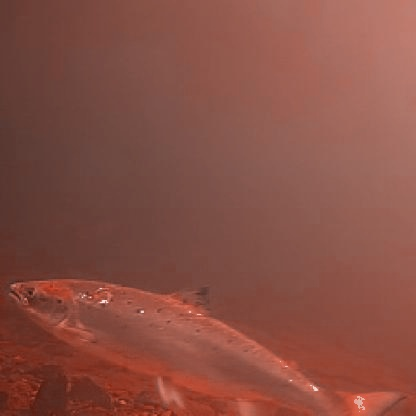salmon: (4, 270, 408, 414)
